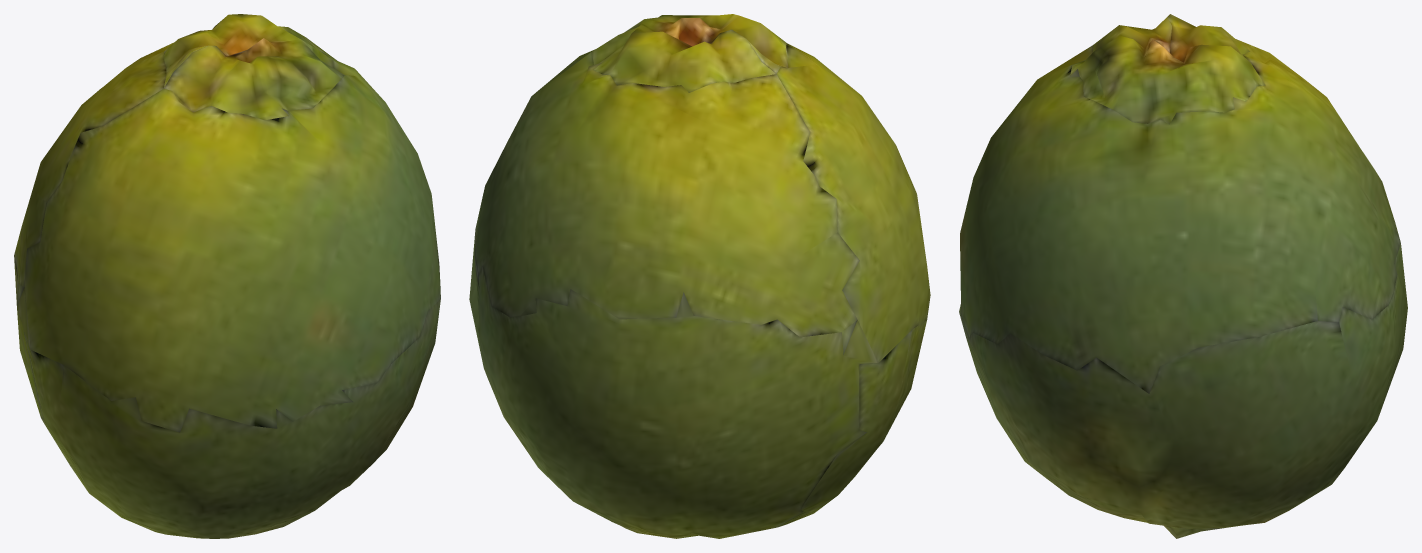
File: food_lime_01.glb
3 renders of one model, left to right at view 1: azimuth 30°, elevation 25°; view 2: azimuth 150°, elevation 25°; view 3: azimuth 270°, elevation 25°, orthographic.
Parts seen in each view (by area): view 1: food_lime_01; view 2: food_lime_01; view 3: food_lime_01.
Boxes of the visible parts, box(x1,y1,x2,y2) form: food_lime_01: box(14, 14, 440, 538); food_lime_01: box(469, 14, 930, 538); food_lime_01: box(959, 14, 1407, 538).
Size of the model in its own units: 0.0595 by 0.0751 by 0.0608.
Materials: 1 (1 with a texture image).
